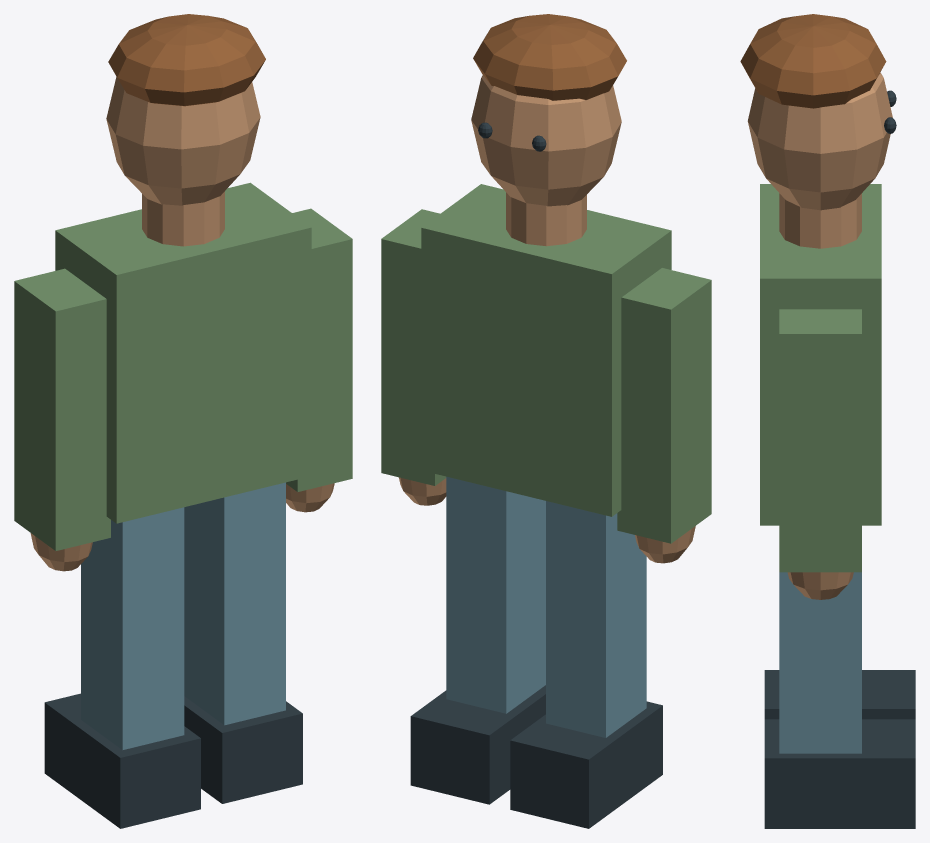
Rendered from resident_adult.glb.
The picture shows the model from 3 angles, left to right: view 1: azimuth 30°, elevation 25°; view 2: azimuth 150°, elevation 25°; view 3: azimuth 270°, elevation 25°; orthographic projection. The views are drawn at different scales.
Visible parts, largest first — view 1: resident_adult; view 2: resident_adult; view 3: resident_adult.
Boxes of the visible parts, <box> form: resident_adult: <box>14,14,352,828</box>; resident_adult: <box>381,14,711,828</box>; resident_adult: <box>740,14,915,828</box>.
Bounding box in the file's own units: 0.7 × 1.72 × 0.36.
